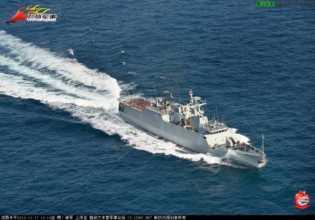warship: (114, 82, 269, 171)
